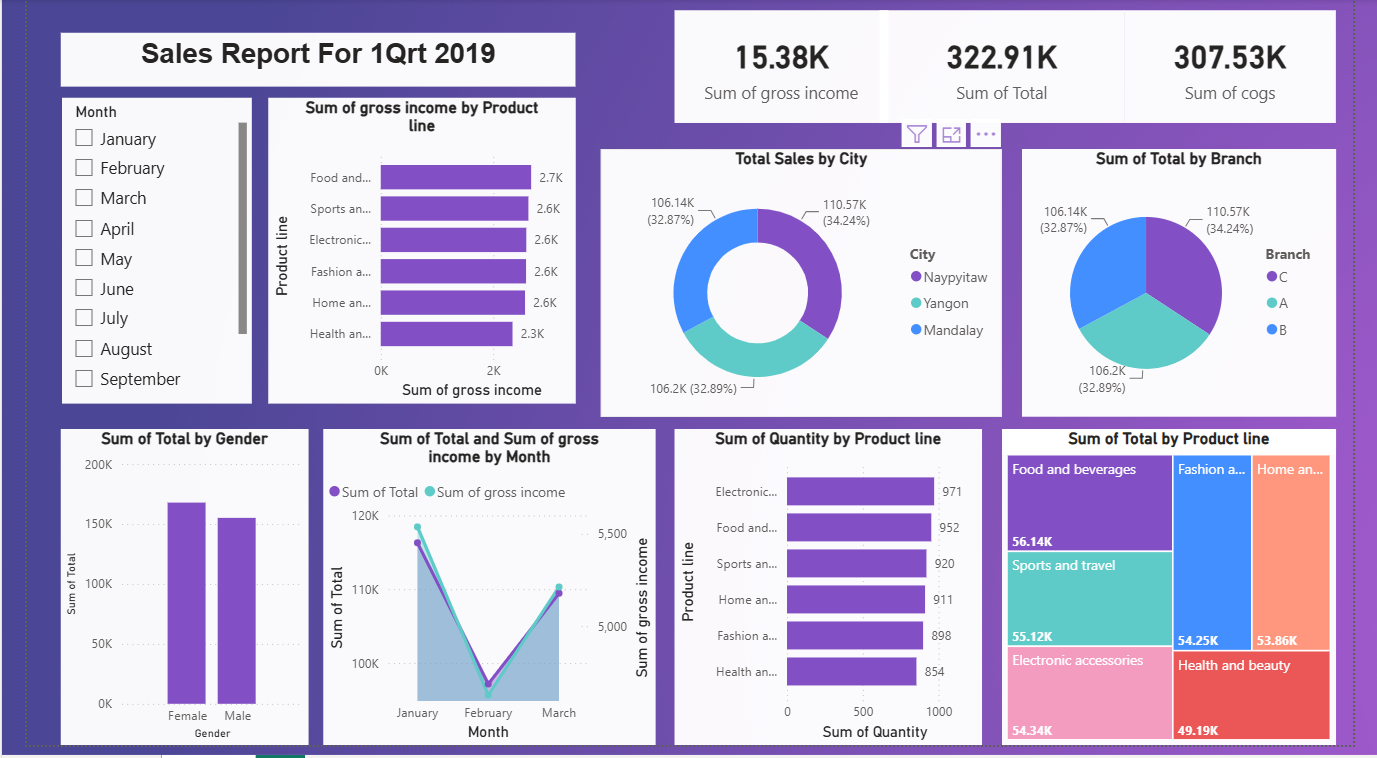

The dashboard page shown, as its layout file describes it:
{"tool":"powerbi","page":{"name":"Page 1","canvas":[1280,720],"ordinal":0},"visuals":[{"type":"card","fields":{"Values":["Sum(supermarket_sales - Sheet1.gross income)"]},"box":[624.9,10.9,206.3,108.6],"z":0},{"type":"card","fields":{"Values":["Sum(supermarket_sales - Sheet1.Total)"]},"box":[822.8,10.9,236.5,108.6],"z":1000},{"type":"card","fields":{"Values":["Sum(supermarket_sales - Sheet1.cogs)"]},"box":[1059.3,10.9,203.9,108.6],"z":2000},{"type":"pieChart","fields":{"Category":["supermarket_sales - Sheet1.Branch"],"Y":["Sum(supermarket_sales - Sheet1.Total)"]},"box":[960.3,144.8,302.8,258.2],"z":3000},{"type":"donutChart","title":" Total Sales by City","fields":{"Category":["supermarket_sales - Sheet1.City"],"Y":["Sum(supermarket_sales - Sheet1.Total)"]},"box":[553.8,144.8,387.3,258.2],"z":4000},{"type":"treemap","fields":{"Group":["supermarket_sales - Sheet1.Product line"],"Values":["Sum(supermarket_sales - Sheet1.Total)"]},"box":[941,415,322.1,305.2],"z":5000},{"type":"clusteredColumnChart","fields":{"Category":["supermarket_sales - Sheet1.Gender"],"Y":["Sum(supermarket_sales - Sheet1.Total)"]},"box":[32.6,415,238.9,305.2],"z":6000},{"type":"slicer","fields":{"Values":["supermarket_sales - Sheet1.Date.Variation.Date Hierarchy.Month"]},"box":[33.8,95.3,183.4,295.6],"z":7000},{"type":"lineChart","fields":{"Y":["Sum(supermarket_sales - Sheet1.Total)"],"Category":["supermarket_sales - Sheet1.Date.Variation.Date Hierarchy.Month"],"Y2":["Sum(supermarket_sales - Sheet1.gross income)"]},"box":[285.9,415,320.9,305.2],"z":8000},{"type":"clusteredBarChart","fields":{"Y":["Sum(supermarket_sales - Sheet1.gross income)"],"Category":["supermarket_sales - Sheet1.Product line"]},"box":[232.8,95.3,296.8,295.6],"z":9000},{"type":"clusteredBarChart","fields":{"Category":["supermarket_sales - Sheet1.Product line"],"Y":["Sum(supermarket_sales - Sheet1.Quantity)"]},"box":[624.9,415,296.8,305.2],"z":10000},{"type":"textbox","box":[32.6,32.6,497.1,51.9],"z":12000}]}

Visuals, with their boxes in screenshot pixels (x1, y1, x2, y2), scaled from the page's 1280x720 canvas onto the 1377x758 screenshot:
card - Sum(supermarket_sales - Sheet1.gross income): rect(672, 11, 894, 126)
card - Sum(supermarket_sales - Sheet1.Total): rect(885, 11, 1140, 126)
card - Sum(supermarket_sales - Sheet1.cogs): rect(1140, 11, 1359, 126)
pieChart - supermarket_sales - Sheet1.Branch x Sum(supermarket_sales - Sheet1.Total): rect(1033, 152, 1359, 424)
" Total Sales by City" donutChart: rect(596, 152, 1012, 424)
treemap - supermarket_sales - Sheet1.Product line x Sum(supermarket_sales - Sheet1.Total): rect(1012, 437, 1359, 757)
clusteredColumnChart - supermarket_sales - Sheet1.Gender x Sum(supermarket_sales - Sheet1.Total): rect(35, 437, 292, 757)
slicer - supermarket_sales - Sheet1.Date.Variation.Date Hierarchy.Month: rect(36, 100, 234, 412)
lineChart - Sum(supermarket_sales - Sheet1.Total) x supermarket_sales - Sheet1.Date.Variation.Date Hierarchy.Month: rect(308, 437, 653, 757)
clusteredBarChart - Sum(supermarket_sales - Sheet1.gross income) x supermarket_sales - Sheet1.Product line: rect(250, 100, 570, 412)
clusteredBarChart - supermarket_sales - Sheet1.Product line x Sum(supermarket_sales - Sheet1.Quantity): rect(672, 437, 992, 757)
textbox: rect(35, 34, 570, 89)
